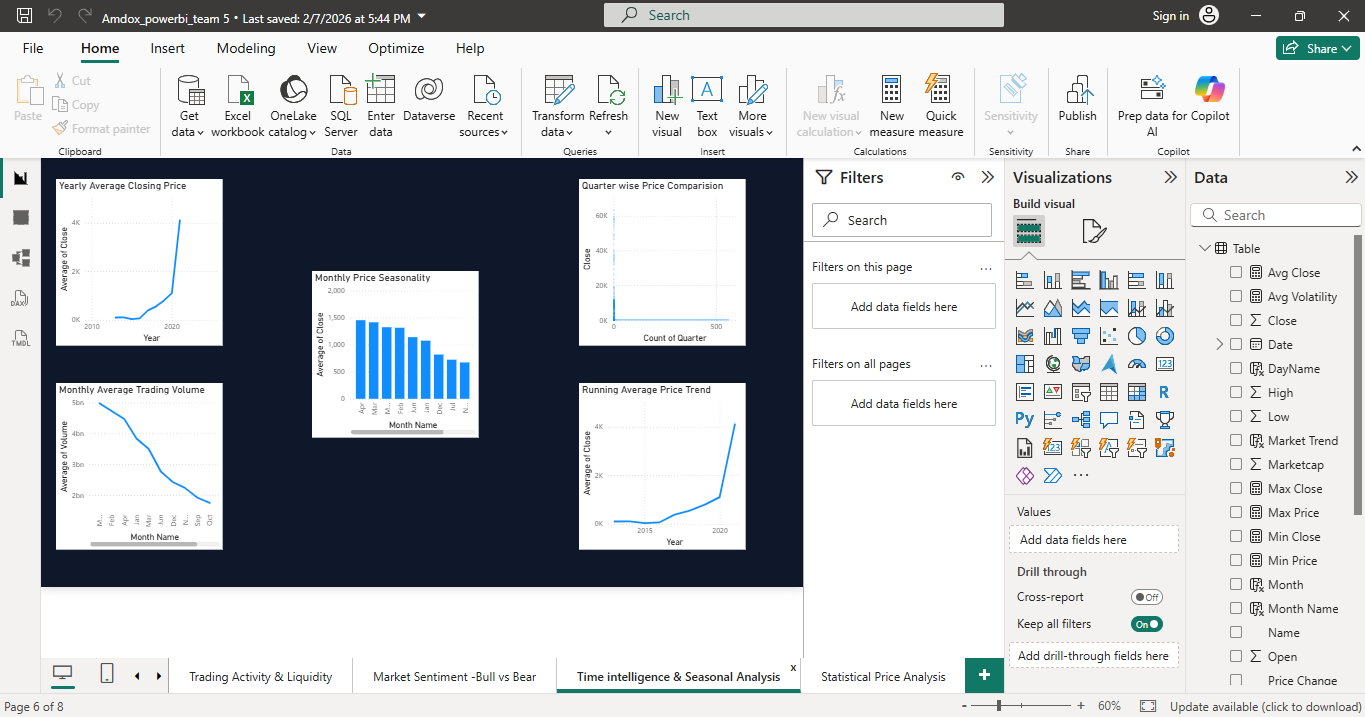

What the dashboard file says about the page in this screenshot:
{"tool":"powerbi","page":{"name":"Time intelligence & Seasonal Analysis","canvas":[1280,720],"ordinal":5},"visuals":[{"type":"lineChart","title":"Yearly Average Closing Price","fields":{"Category":["Table.Year"],"Y":["Avg(Table.Close)"]},"box":[24.6,35.9,279.7,279.7],"z":0},{"type":"clusteredColumnChart","title":"Monthly Price Seasonality","fields":{"Category":["Table.Month Name"],"Y":["Avg(Table.Close)"]},"box":[455.4,189,279.7,279.7],"z":1},{"type":"clusteredBarChart","title":"Quarter  wise Price Comparision","fields":{"Y":["CountNonNull(Table.Quarter)"],"Category":["Table.Close"]},"box":[903.3,35.9,279.7,279.7],"z":2},{"type":"lineChart","title":"Monthly Average Trading Volume","fields":{"Category":["Table.Month Name"],"Y":["Avg(Table.Volume)"]},"box":[24.6,378,279.7,279.7],"z":3},{"type":"lineChart","title":"Running Average  Price Trend","fields":{"Category":["Table.Date.Variation.Date Hierarchy.Year","Table.Date.Variation.Date Hierarchy.Quarter","Table.Date.Variation.Date Hierarchy.Month","Table.Date.Variation.Date Hierarchy.Day"],"Y":["Avg(Table.Close)"]},"box":[903.3,378,279.7,279.7],"z":4}]}

Visuals, with their boxes on the page's 1280x720 design canvas (x1, y1, x2, y2). These are canvas units, not pixel positions in the 1365x717 screenshot, which may show the page scaled, cropped or inside an application window:
"Yearly Average Closing Price" lineChart: pyautogui.locateOnScreen(25, 36, 304, 316)
"Monthly Price Seasonality" clusteredColumnChart: pyautogui.locateOnScreen(455, 189, 735, 469)
"Quarter  wise Price Comparision" clusteredBarChart: pyautogui.locateOnScreen(903, 36, 1183, 316)
"Monthly Average Trading Volume" lineChart: pyautogui.locateOnScreen(25, 378, 304, 658)
"Running Average  Price Trend" lineChart: pyautogui.locateOnScreen(903, 378, 1183, 658)
